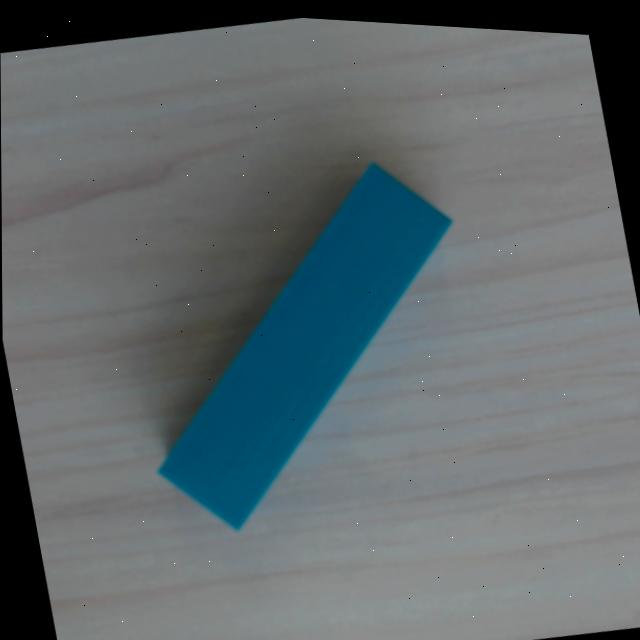Balok-Hijau-1002525: (154, 161, 453, 529)
